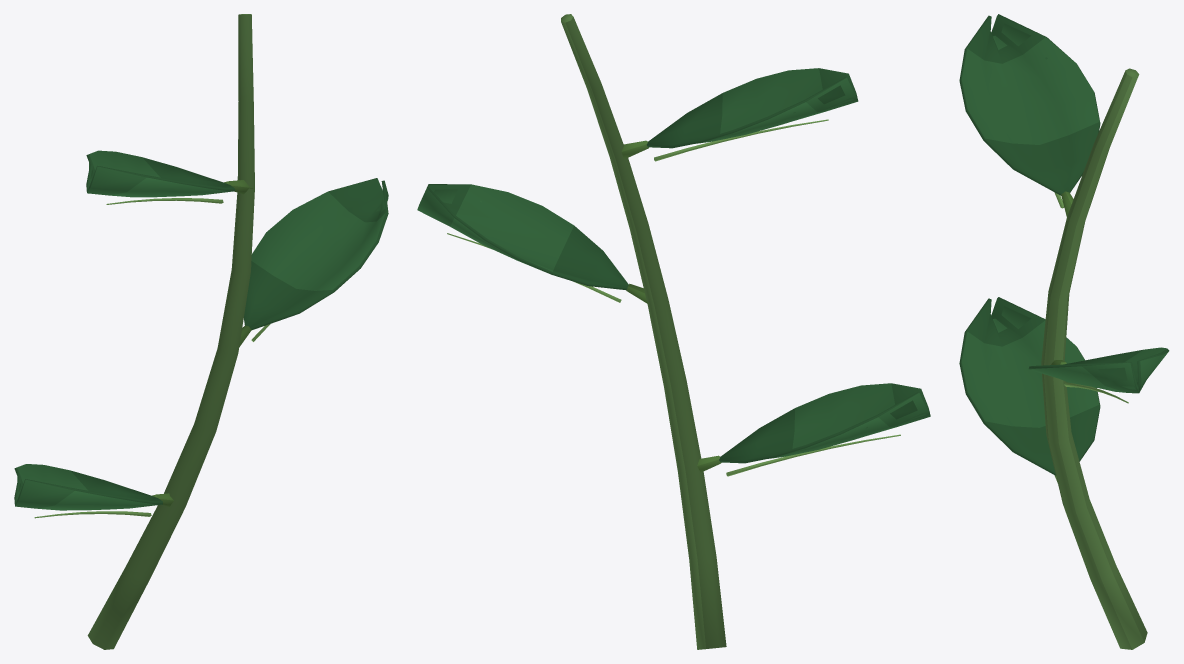
Rendered from garden-geranium-bloom-stem-2.glb.
The picture shows the model from 3 angles, left to right: view 1: azimuth 30°, elevation 25°; view 2: azimuth 150°, elevation 25°; view 3: azimuth 270°, elevation 25°; orthographic projection. The views are drawn at different scales.
Visible parts, largest first — view 1: geranium-bloom-stem-2; view 2: geranium-bloom-stem-2; view 3: geranium-bloom-stem-2.
Boxes of the visible parts, x1,y1,x2,y2 form: geranium-bloom-stem-2: (14, 14, 388, 649); geranium-bloom-stem-2: (417, 14, 930, 649); geranium-bloom-stem-2: (959, 14, 1169, 649).
Size of the model in its own units: 0.2364 by 0.3065 by 0.0897.
